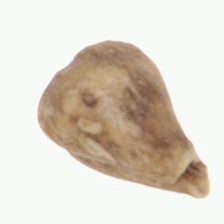L1: (175, 156, 212, 201)
L2: (35, 38, 211, 199)
